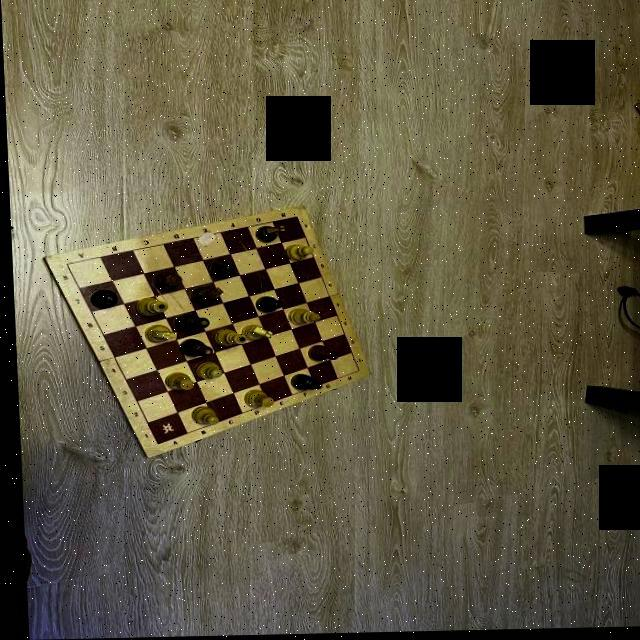chess-table-corners: (148, 442, 158, 448), (60, 262, 67, 266), (352, 370, 357, 374), (292, 216, 297, 220)
